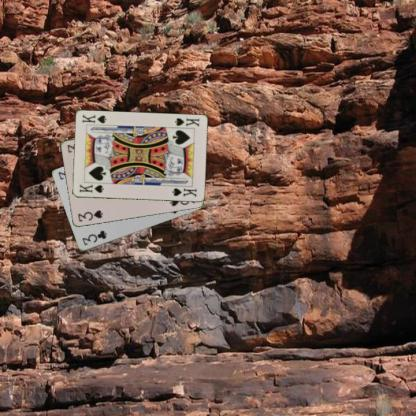3c: (80, 228, 108, 246)
3s: (75, 207, 104, 223)
Ks: (172, 116, 200, 128), (77, 182, 104, 194)
